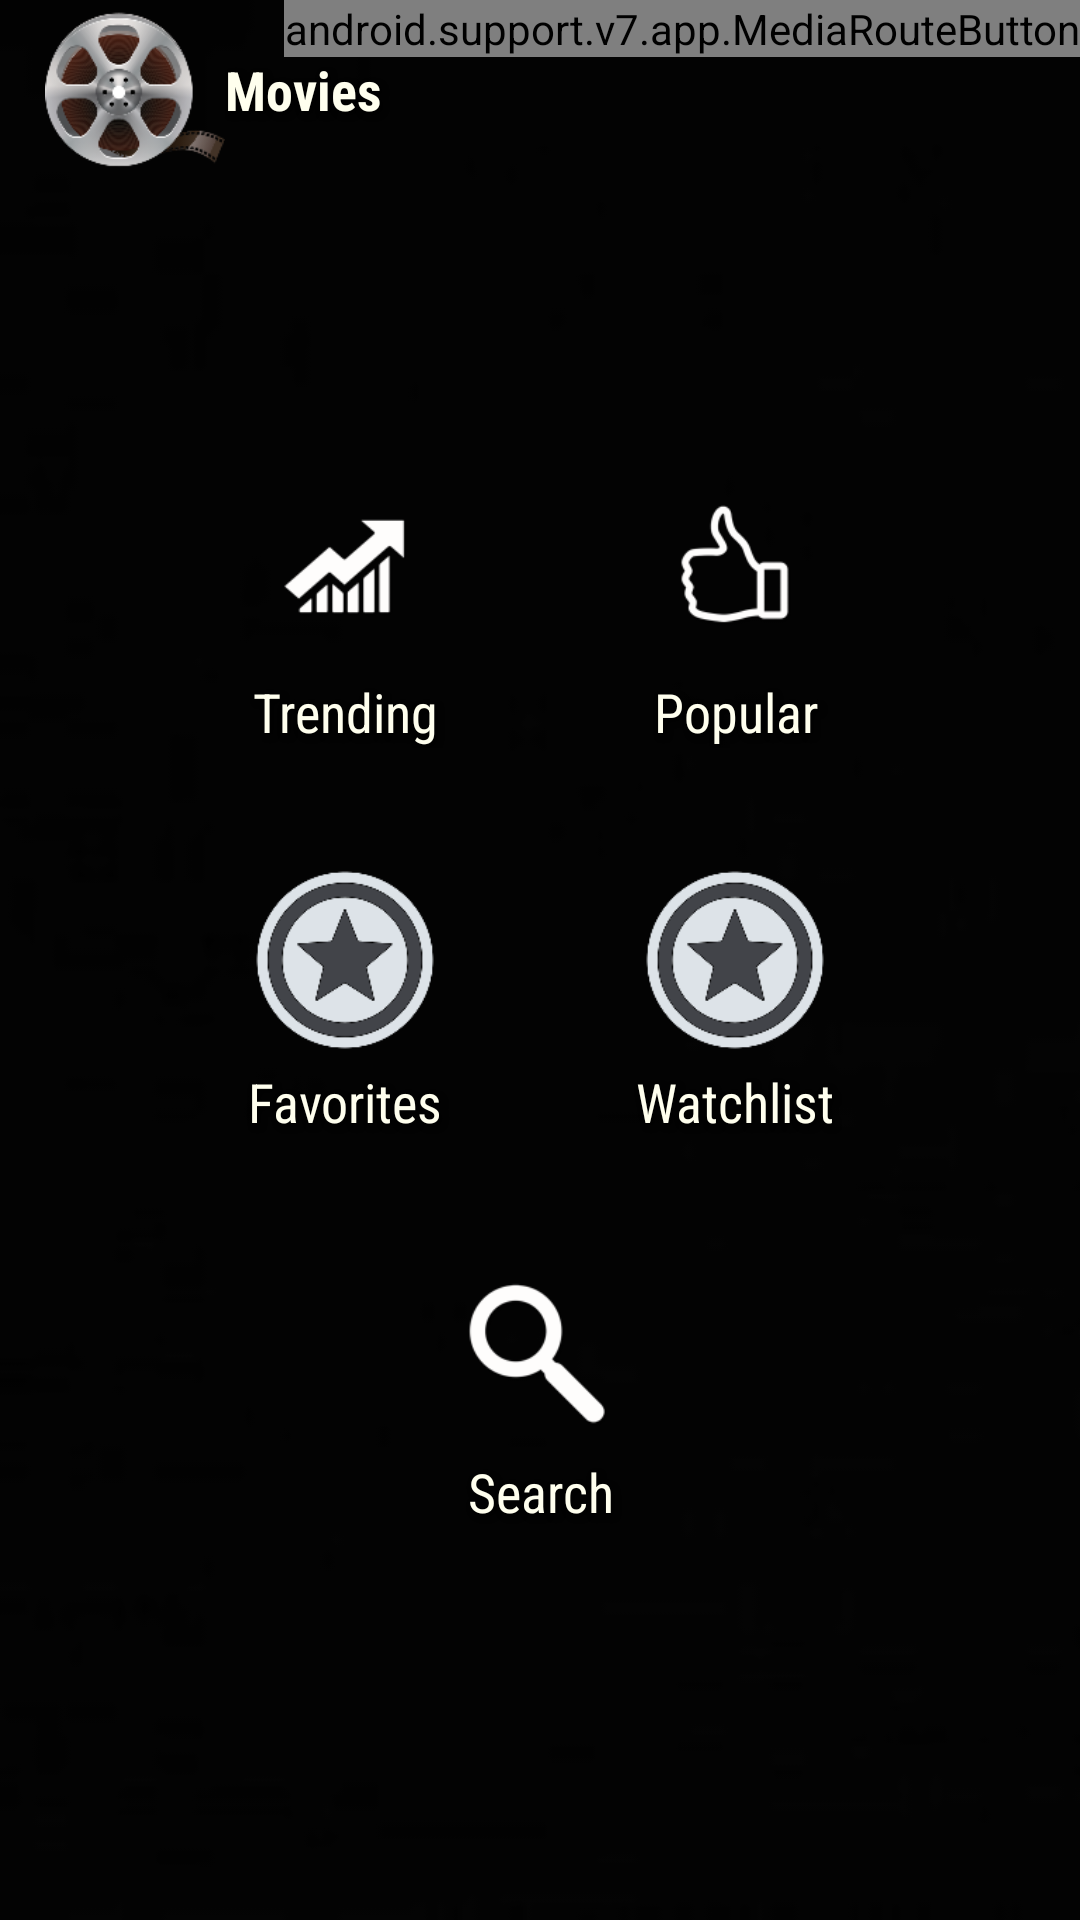

Screen size 1080x1920. Icon name, then its box in pixels as (x1, y1, x2, y2):
highly rated: (681, 505, 789, 623)
